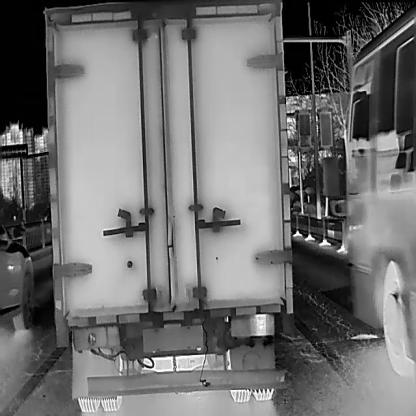bus: (322, 0, 414, 382)
car: (0, 220, 33, 337)
truck: (39, 0, 293, 412)
